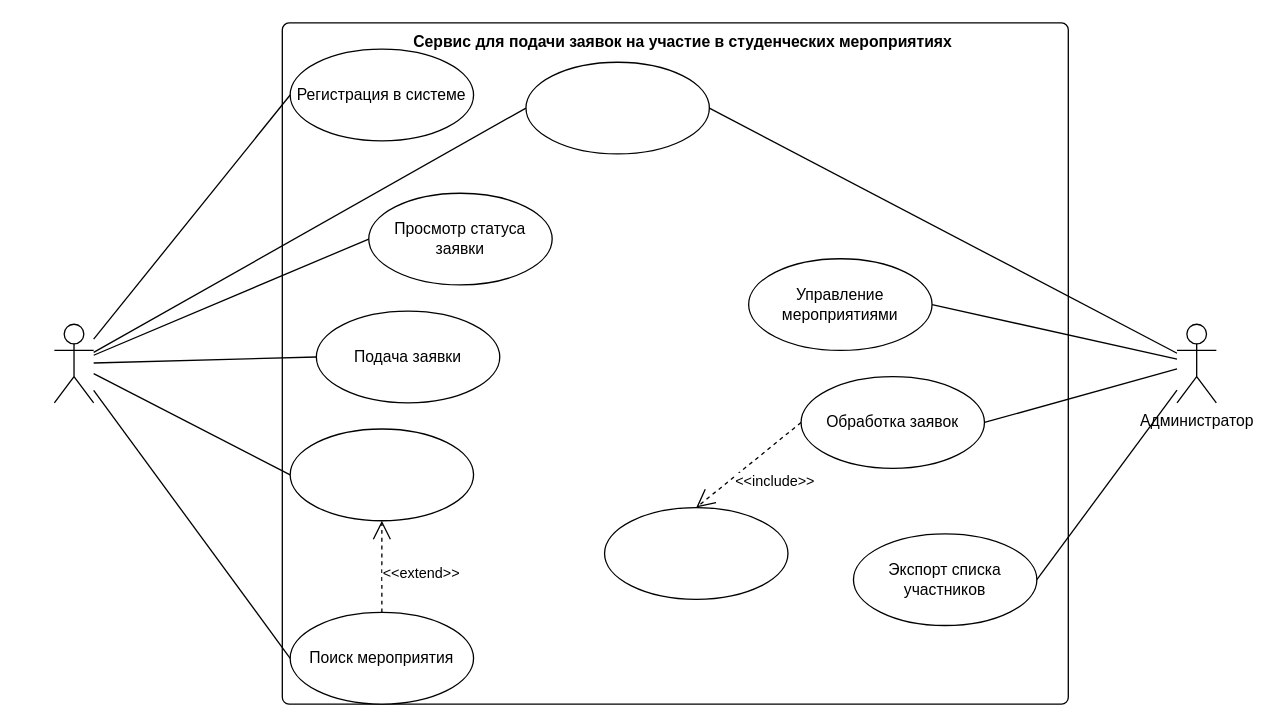
Image size: 1276x727. Some labels were removed from this diagram. Each missing label, with the box of its shape:
Авторизация пользователя: (525, 61, 709, 154)
Пользователь: (53, 323, 94, 403)
Просмотр списка мероприятий: (289, 428, 474, 521)
Уведомление о статусе заявки: (603, 506, 788, 599)
